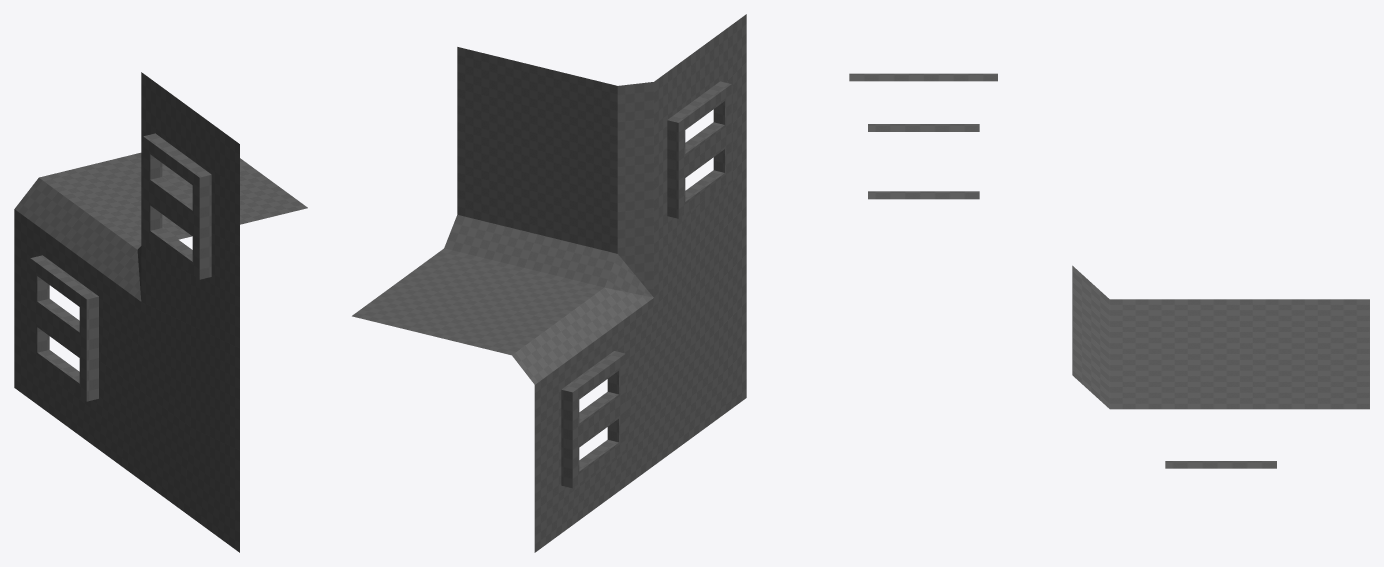
3 renders of one model, left to right at view 1: azimuth 30°, elevation 25°; view 2: azimuth 150°, elevation 25°; view 3: azimuth 270°, elevation 25°, orthographic. The views are drawn at different scales.
Visible parts, largest first — view 1: CubeUpBackLeftV2; view 2: CubeUpBackLeftV2; view 3: CubeUpBackLeftV2.
Part boxes in pixels (x1,y1,x2,y2): CubeUpBackLeftV2: [14, 72, 307, 552]; CubeUpBackLeftV2: [352, 14, 746, 552]; CubeUpBackLeftV2: [849, 73, 1369, 468].
Size of the model in its own units: 2.12 by 4 by 4.
Materials: 1 (1 with a texture image).
